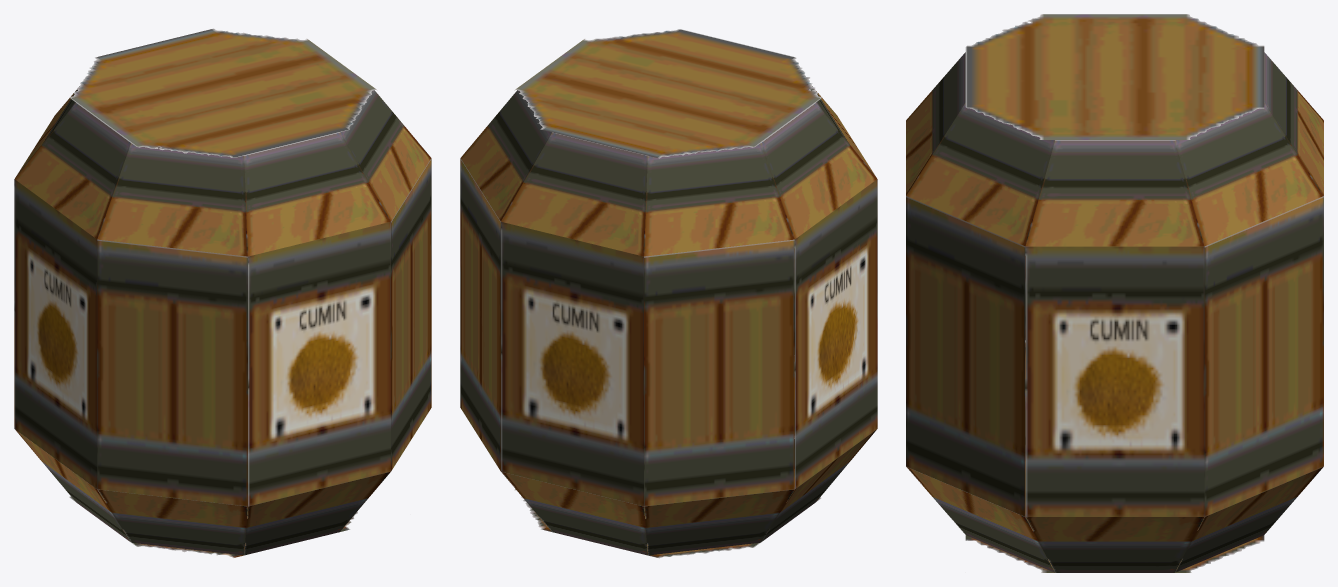
File: cumin_seed_barrel.obj
3 views of the same model, side by side, from view 1: azimuth 30°, elevation 25°; view 2: azimuth 150°, elevation 25°; view 3: azimuth 270°, elevation 25° (orthographic). The views are drawn at different scales.
Parts seen in each view (by area): view 1: cumin_seed_barrel; view 2: cumin_seed_barrel; view 3: cumin_seed_barrel.
Part boxes in pixels (bbox=[...]): cumin_seed_barrel: bbox=[14, 28, 431, 557]; cumin_seed_barrel: bbox=[460, 29, 877, 558]; cumin_seed_barrel: bbox=[906, 14, 1323, 572].
Size of the model in its own units: 0.875 by 1 by 0.875.
